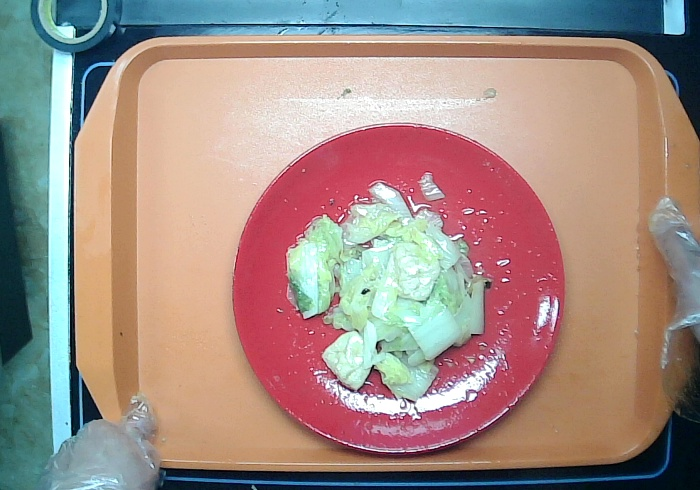HZYJPL-Hong_Se_Yuan_Pan: (231, 120, 567, 455)
